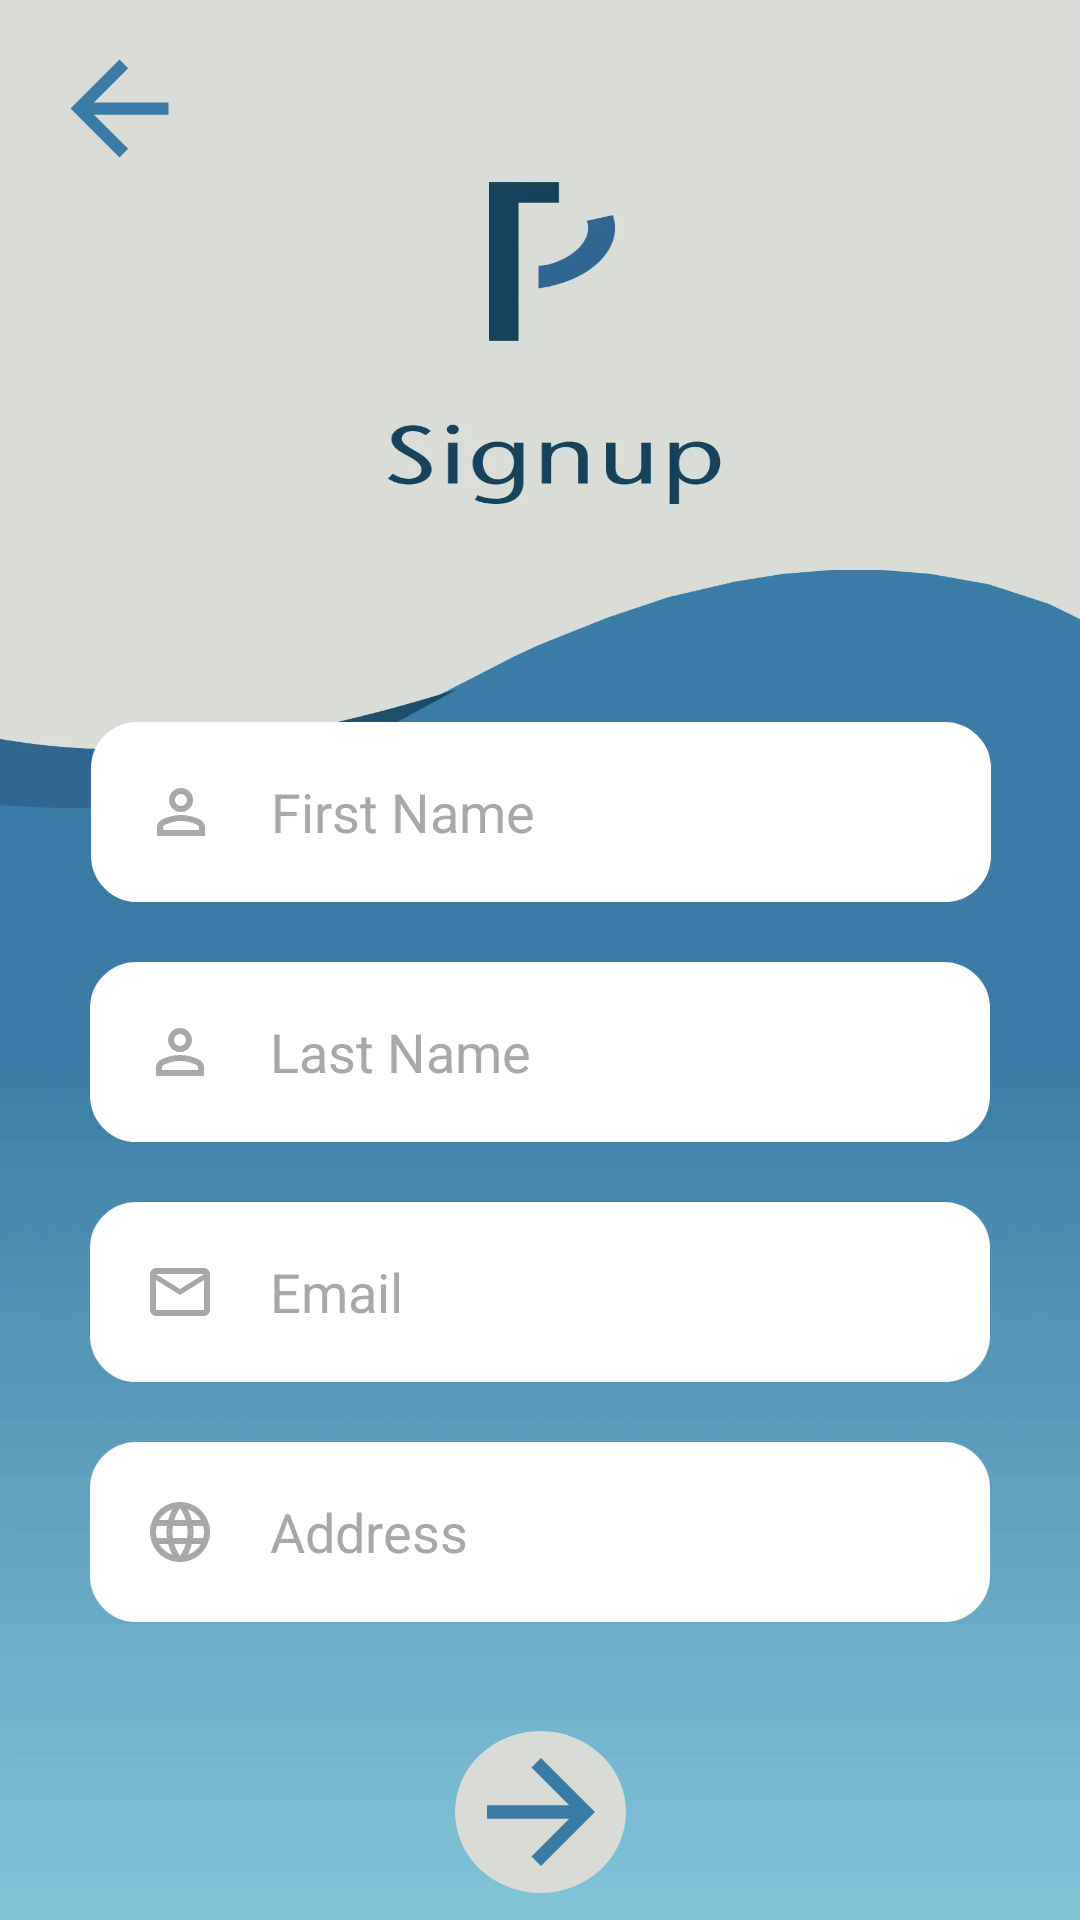

Icon click points for this 1080×1920 phone screenshot, format (x=x, y=y):
arrow back: (x=119, y=108)
arrow forward: (x=540, y=1812)
